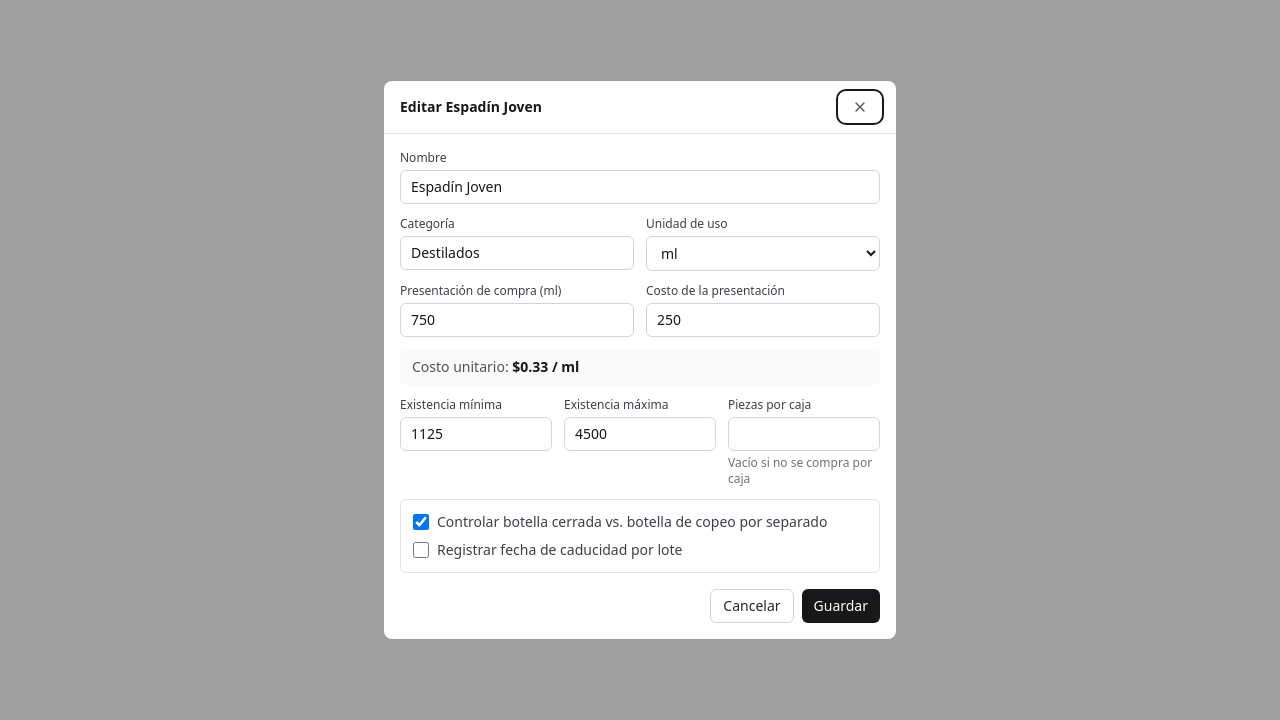
it: <ModalEditarInsumo> › no deja un máximo por debajo del mínimo
This screenshot has width=1280, height=720.
Replace the text in the number field labelled "Existencia máxima" with "10" at (640, 434), box [564,417,716,451]
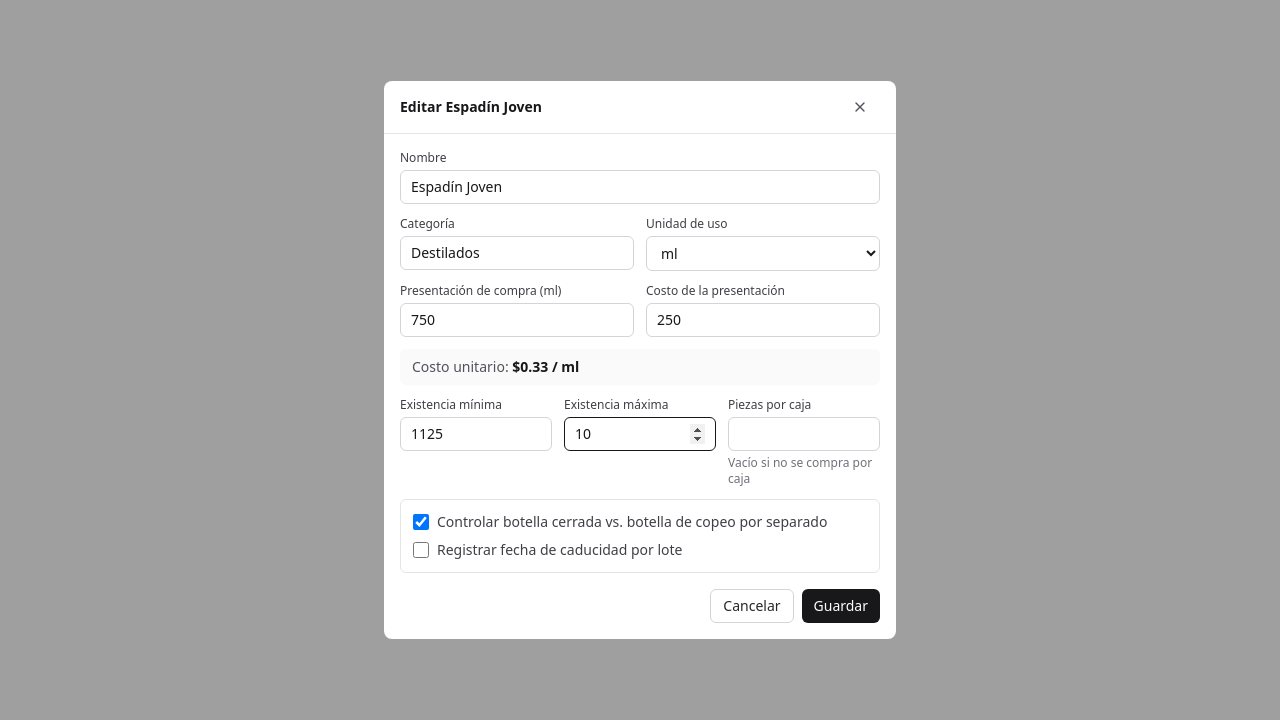
Click the button "Guardar" at (841, 606), box [802,589,880,623]
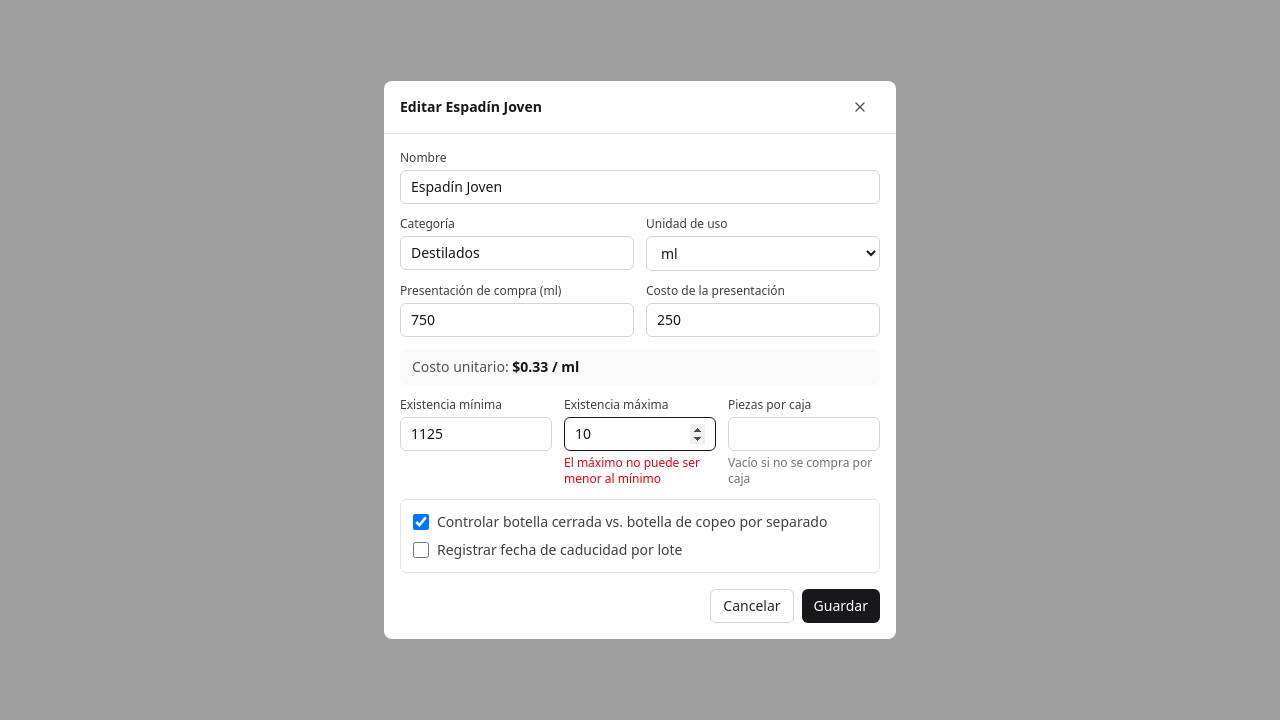
Expected: the text "El máximo no puede ser menor al mínimo" is shown, [564,455,716,487]
